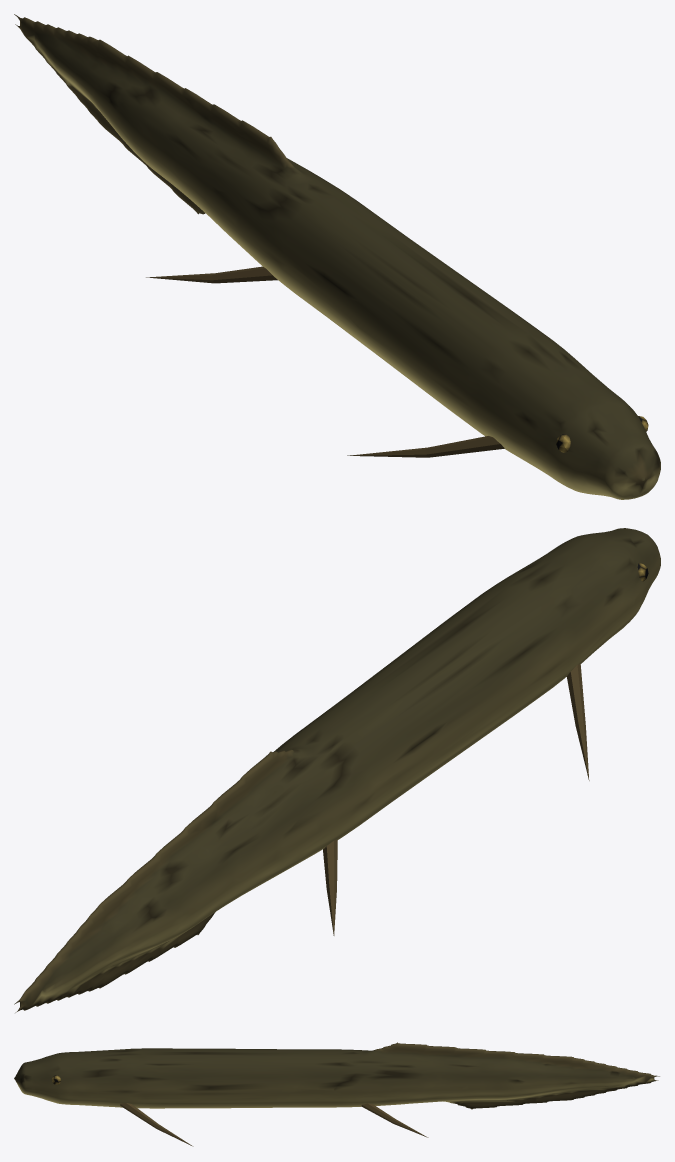
File: Gnathorhiza.fbx
3 renders of one model, top to bottom at view 1: azimuth 30°, elevation 25°; view 2: azimuth 150°, elevation 25°; view 3: azimuth 270°, elevation 25°, orthographic. The views are drawn at different scales.
Visible parts, largest first — view 1: Gnathorhiza; view 2: Gnathorhiza; view 3: Gnathorhiza.
Boxes of the visible parts, x1,y1,x2,y2 form: Gnathorhiza: (14, 14, 660, 499); Gnathorhiza: (14, 528, 660, 1012); Gnathorhiza: (14, 1042, 659, 1146).
Size of the model in its own units: 0.27 by 0.1545 by 1.21.
